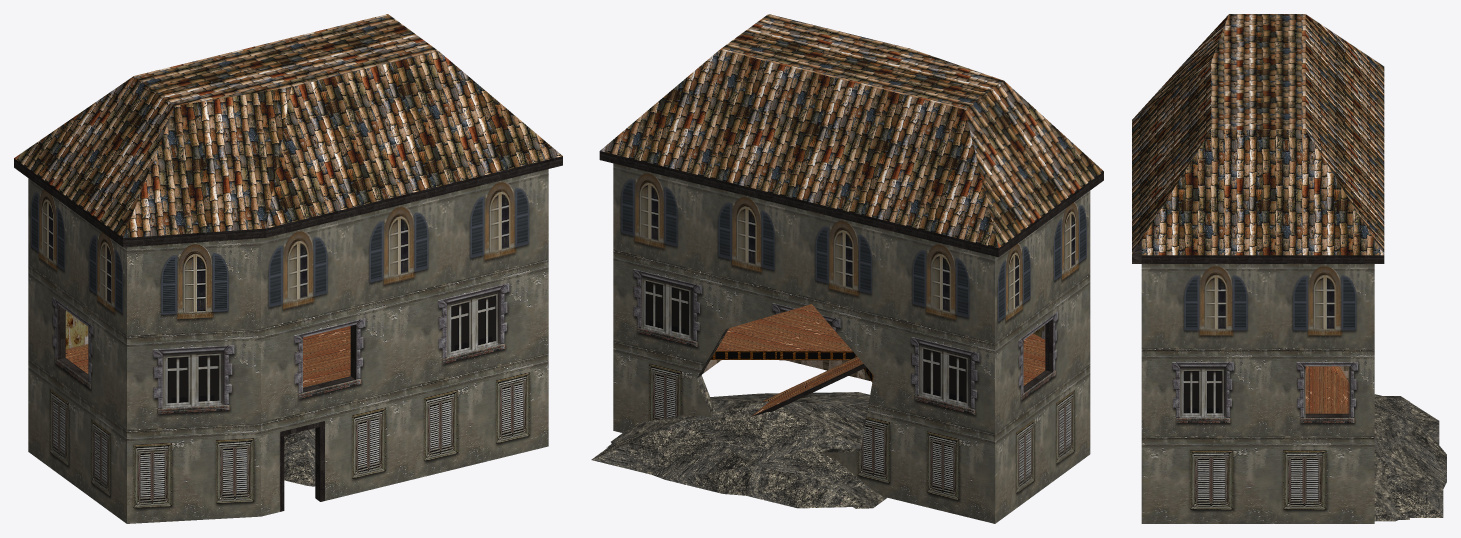
Rendered from Damaged3Story.dae.
The picture shows the model from 3 angles, left to right: view 1: azimuth 30°, elevation 25°; view 2: azimuth 150°, elevation 25°; view 3: azimuth 270°, elevation 25°; orthographic projection. The views are drawn at different scales.
Parts seen in each view (by area): view 1: BSP.013; view 2: BSP.013; view 3: BSP.013.
Part boxes in pixels (x1,y1,x2,y2): BSP.013: (14,14,562,523); BSP.013: (591,14,1103,523); BSP.013: (1132,14,1446,523).
Size of the model in its own units: 13.8 by 9.73 by 12.34.
Materials: 13 (13 with a texture image).
